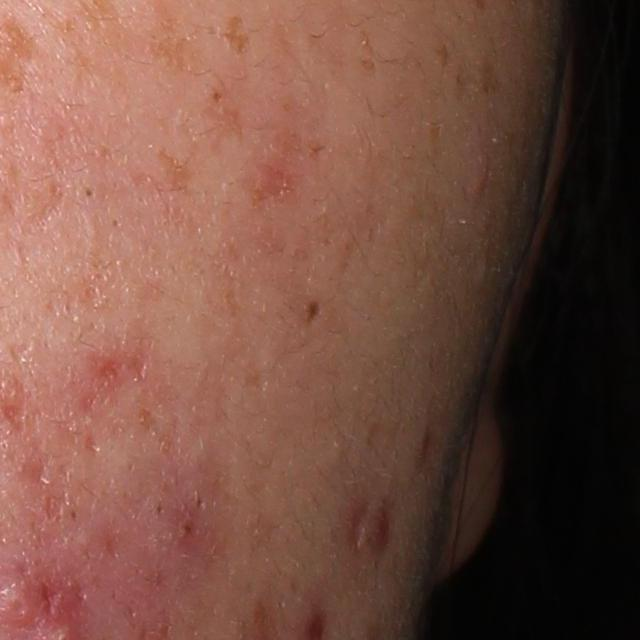atrophic_scar: (364, 494, 401, 565), (18, 439, 49, 499), (345, 501, 371, 557), (34, 570, 64, 614), (43, 492, 75, 525), (81, 431, 102, 455)
comedo: (80, 181, 101, 204)
melasma: (223, 14, 253, 60)
nevus: (303, 296, 323, 329)
papule: (464, 155, 496, 199)
